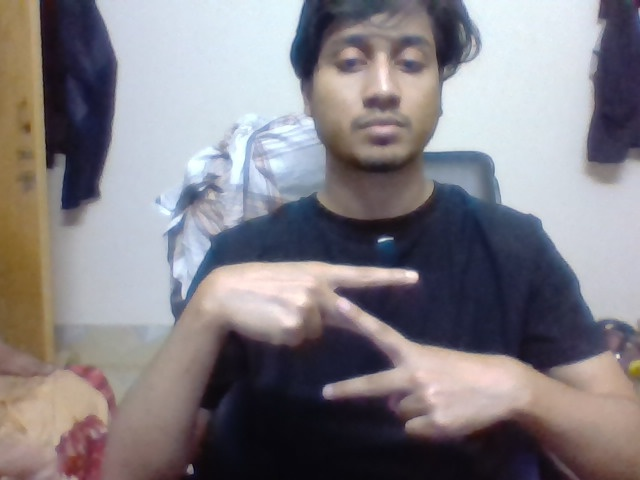Z: (309, 247, 432, 404)
